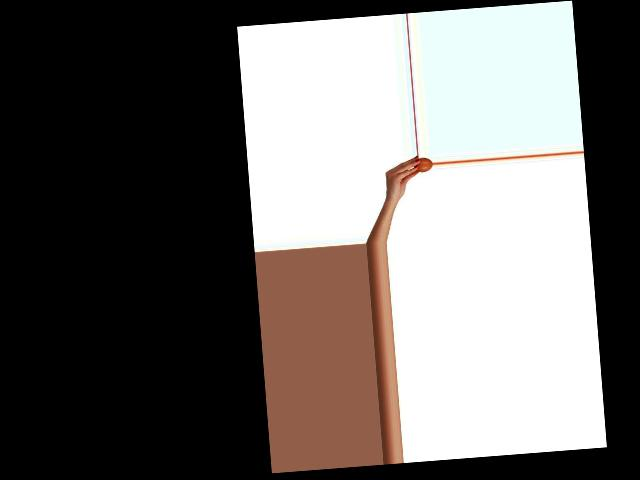egg: (413, 157, 432, 172)
